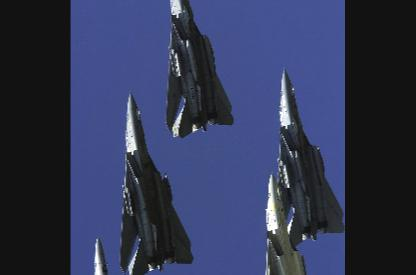EF2000: (119, 91, 194, 274), (277, 68, 344, 247), (165, 0, 235, 139), (262, 169, 331, 274)
F15: (71, 236, 160, 274)
